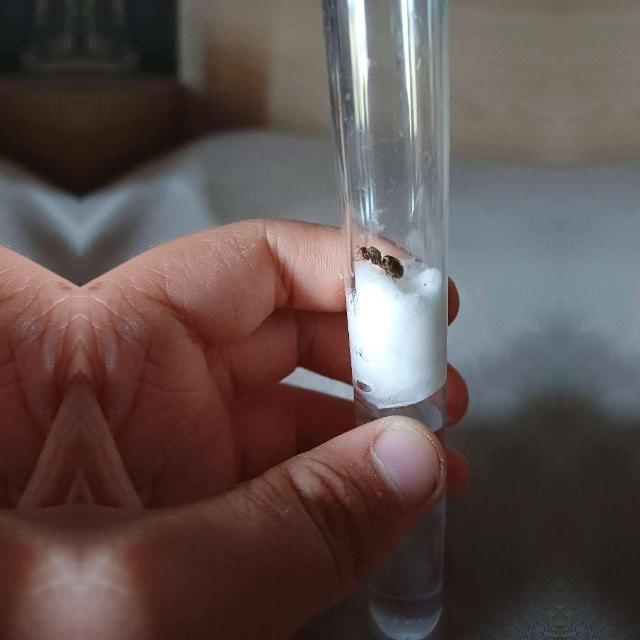Lasius: (352, 239, 402, 285)
